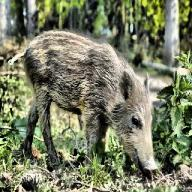boar: (8, 28, 160, 179)
